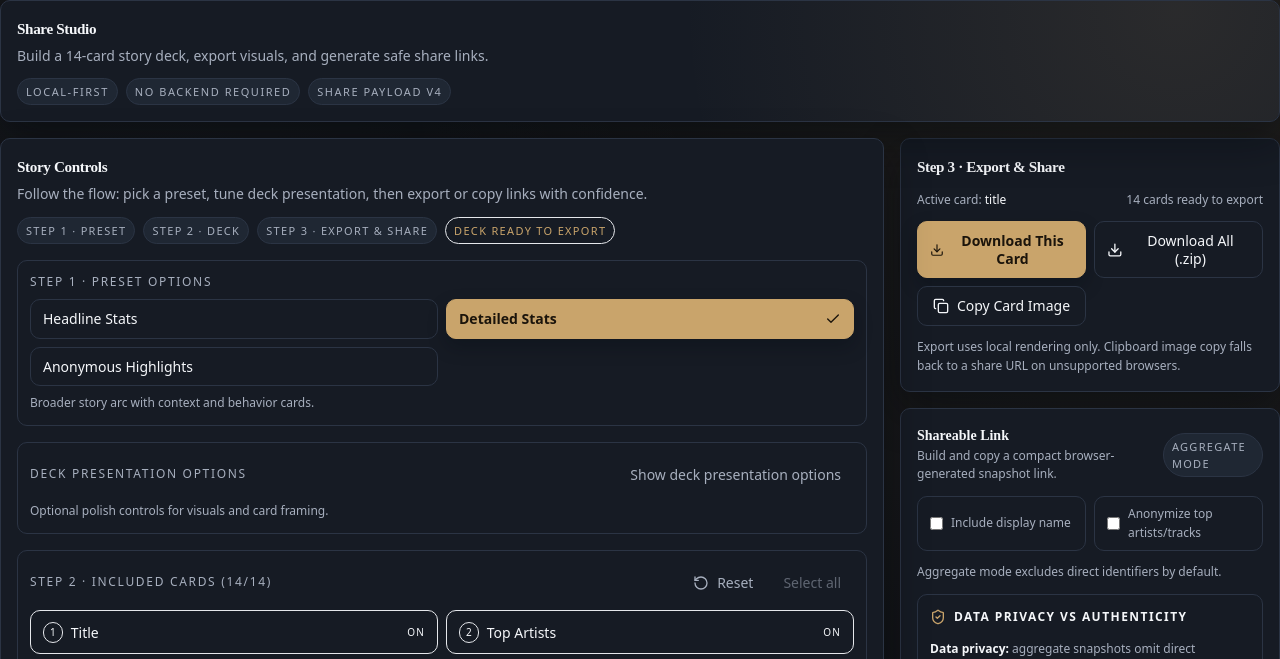
a11y semantics labels and headings › adds explicit labels and semantic heading levels in ShareStudio
The image size is (1280, 659).
Click the button "Show deck presentation options" at x=736, y=475, box [617,455,854,494]
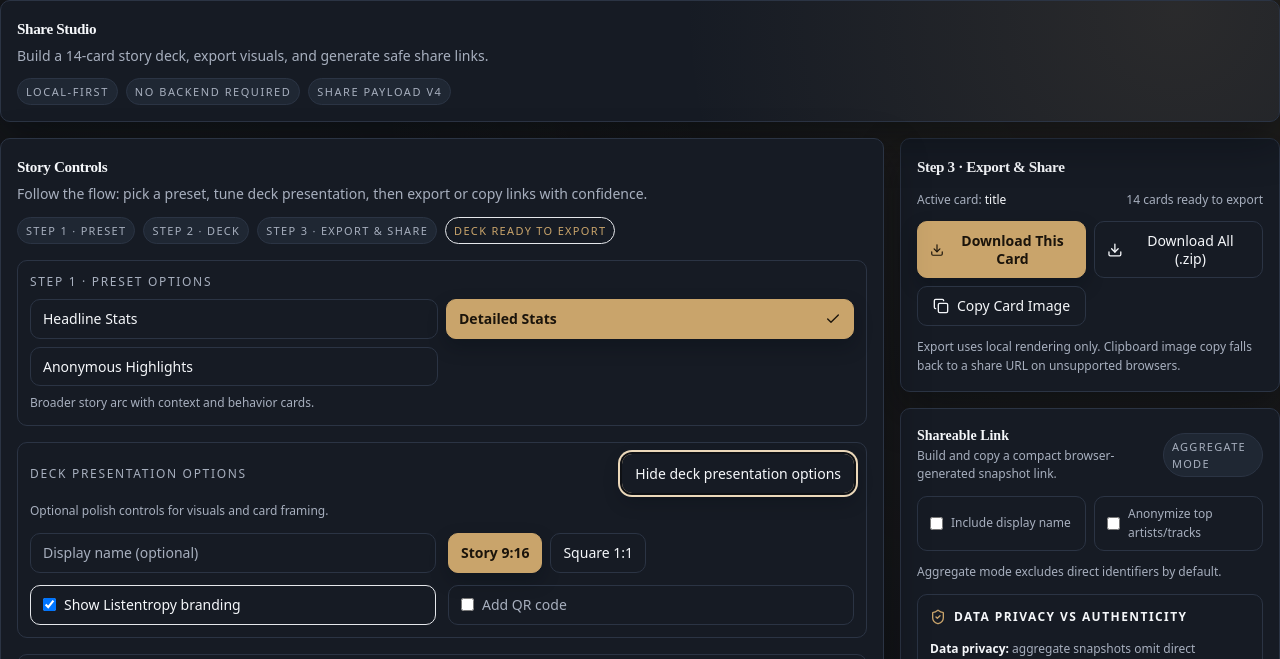
Expected: the heading "Share Studio" is shown, [17,20,96,37]
Expected: the field labelled "Display name (optional)" is shown, [30,533,436,573]
